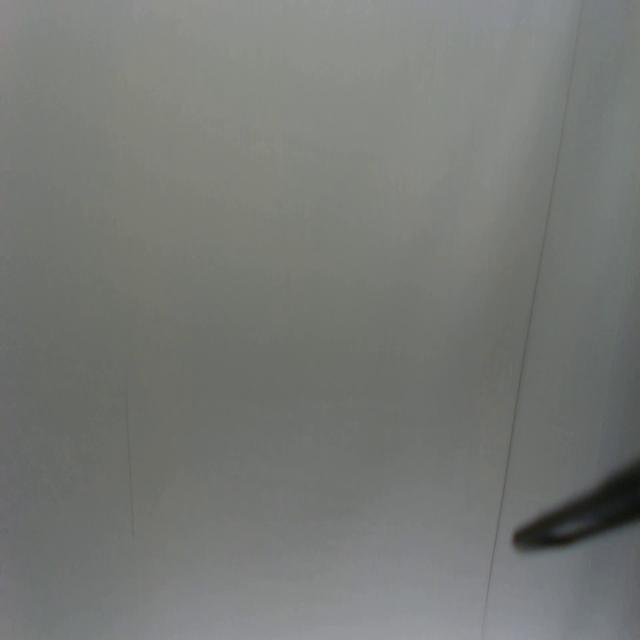crease: (510, 2, 585, 448), (480, 468, 507, 638), (123, 385, 139, 534)
